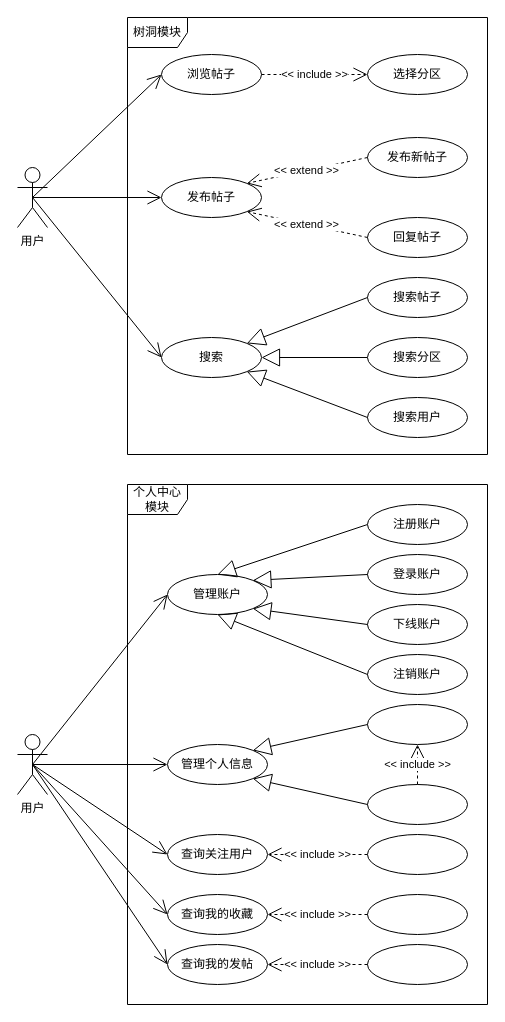
This 505x1022 diagram has some shape labels left out. Each missing label, with the centre of its shape:
修改个人信息: the point at 417,804
删除发帖: the point at 417,964
取消关注: the point at 417,854
取消收藏: the point at 417,914
查询个人信息: the point at 417,724
